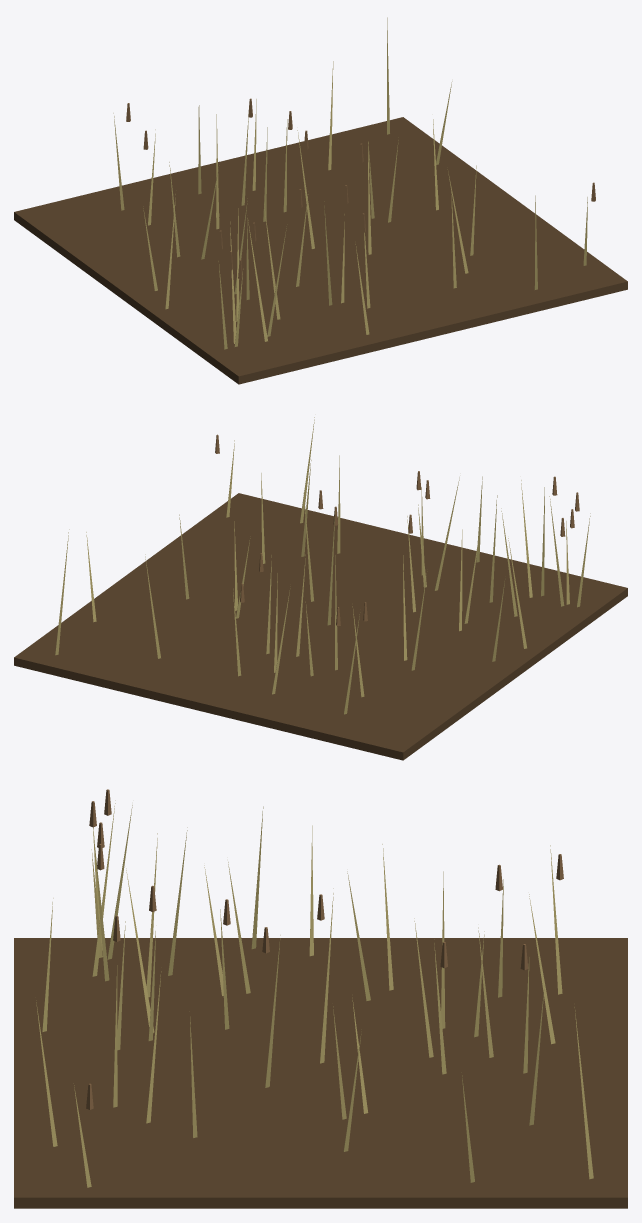
Rendered from br_reed_field.glb.
3 views of the same model, one above another, from view 1: azimuth 30°, elevation 25°; view 2: azimuth 150°, elevation 25°; view 3: azimuth 270°, elevation 25° (orthographic). The views are drawn at different scales.
Parts seen in each view (by area): view 1: br_reed_field; view 2: br_reed_field; view 3: br_reed_field.
Boxes of the visible parts, x1=… form: br_reed_field: x1=14, y1=17, x2=627, y2=384; br_reed_field: x1=14, y1=417, x2=627, y2=760; br_reed_field: x1=14, y1=789, x2=627, y2=1208.
Bounding box in the file's own units: 8 × 2.63 × 8.
